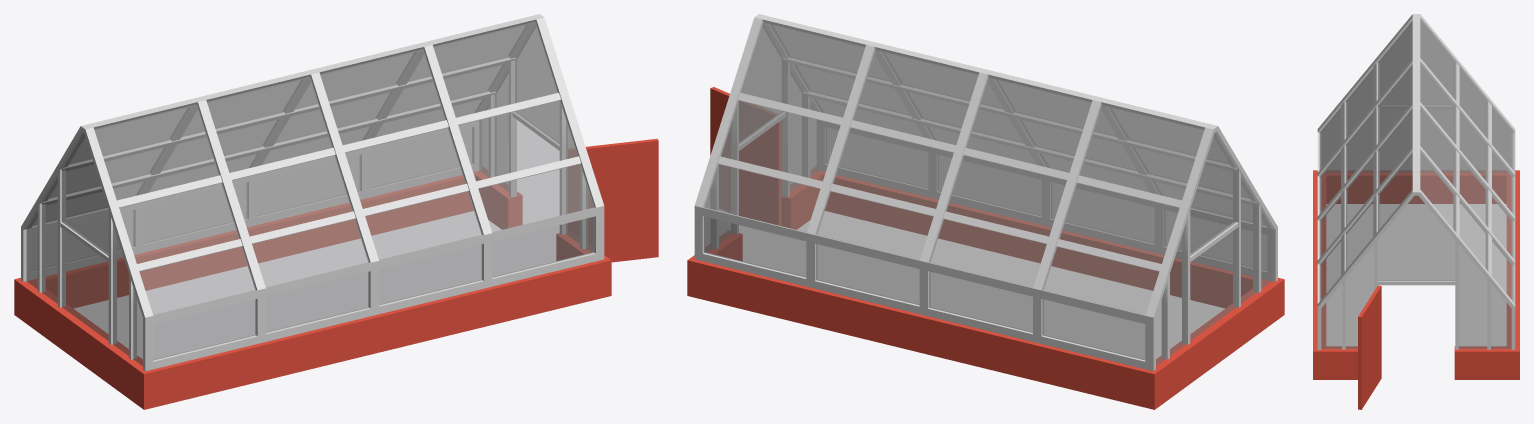
The model's file is House_05.FBX.
3 views of the same model, side by side, from view 1: azimuth 30°, elevation 25°; view 2: azimuth 150°, elevation 25°; view 3: azimuth 270°, elevation 25° (orthographic). The views are drawn at different scales.
Visible parts, largest first — view 1: House_05; view 2: House_05; view 3: House_05.
Boxes of the visible parts, x1,y1,x2,y2 form: House_05: [14, 14, 658, 409]; House_05: [687, 14, 1284, 409]; House_05: [1313, 14, 1519, 409].
Size of the model in its own units: 10.98 by 4.51 by 4.54.
Materials: 2 (1 with a texture image).
